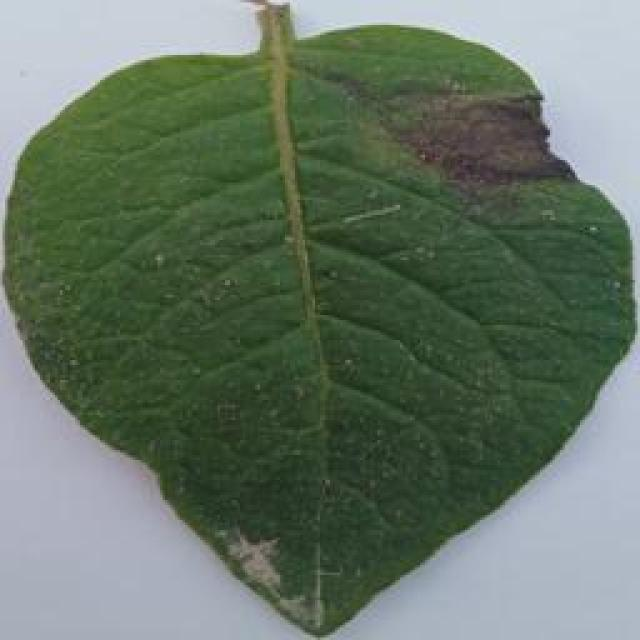Potato_Late_Blight: (4, 17, 628, 639)
